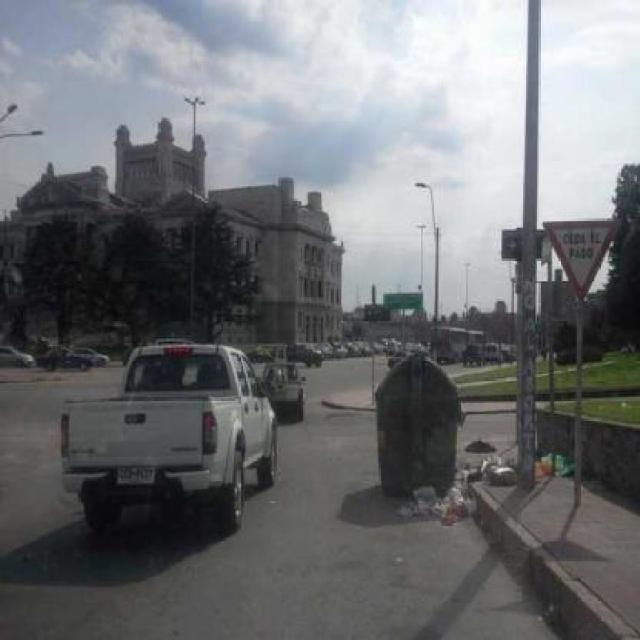garbage: (396, 477, 473, 522), (528, 435, 577, 488), (483, 459, 529, 506), (460, 429, 501, 466)
